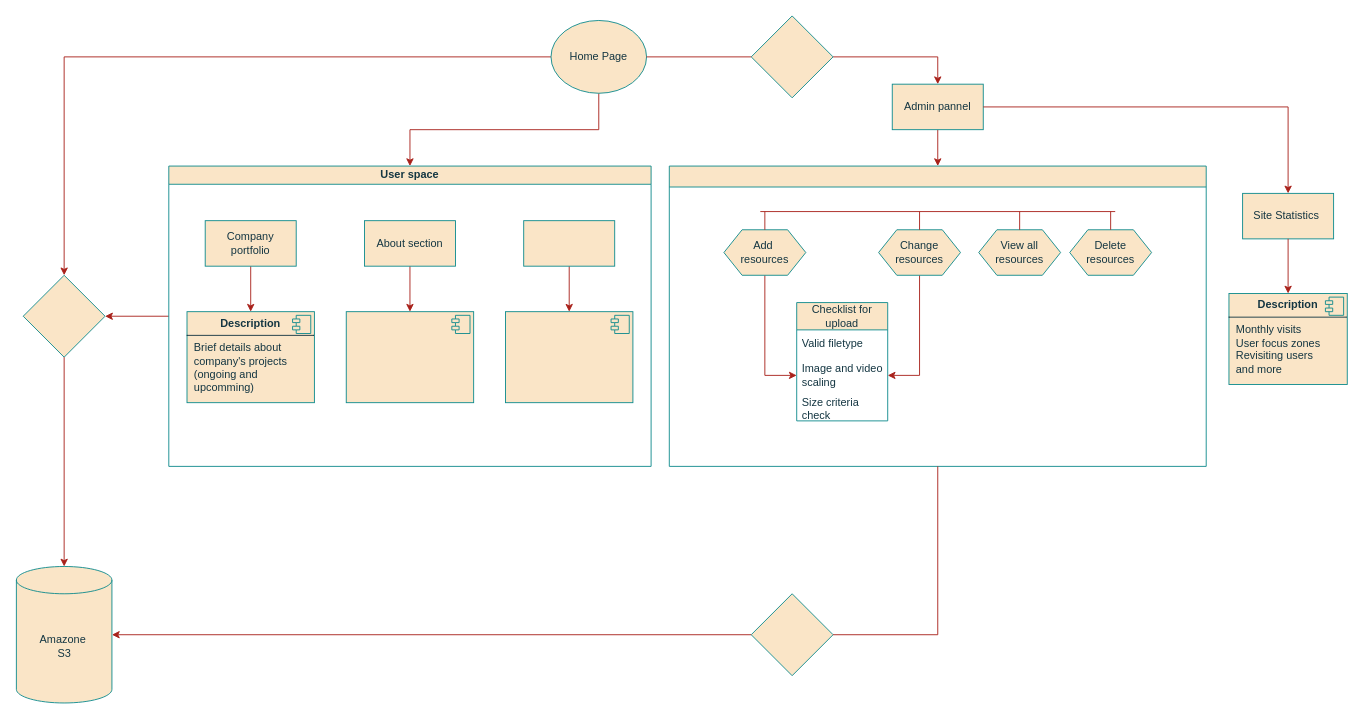
Image size: 1363x719. Some labels were removed from this diagram. Each missing label, with the box of its shape:
Authentication: (750, 15, 833, 98)
Confirmation prompt: (750, 593, 833, 676)
Contact us section: (523, 220, 615, 266)
CRUD operations: (668, 165, 1206, 466)
Description Brief details about company ,its owner and history: (345, 311, 474, 403)
Description Company location, map view and contact information: (505, 311, 633, 403)
Fetching resources: (22, 274, 105, 357)
